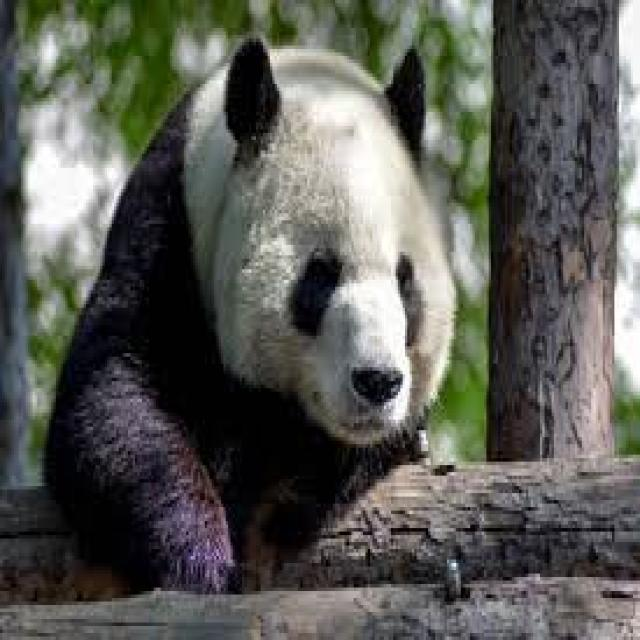Panda: (47, 48, 463, 565)
